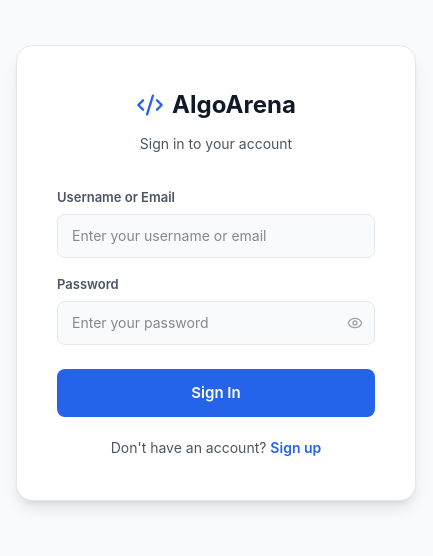
Test case: Login Page › Validation › should show error when only email is filled
In the field with placeholder "Enter your username or email": (216, 236) [57,214,375,258], type "user"
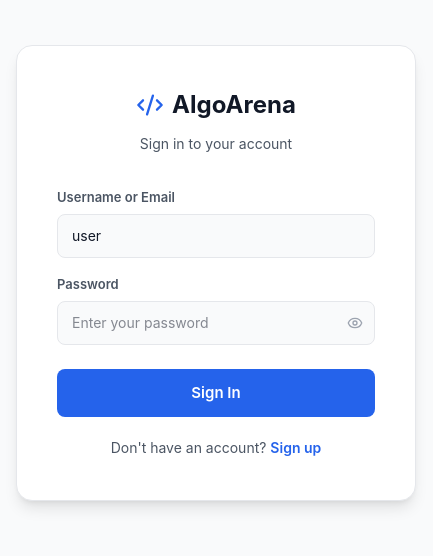
Click the button "Sign In": (216, 393) [57,369,375,417]
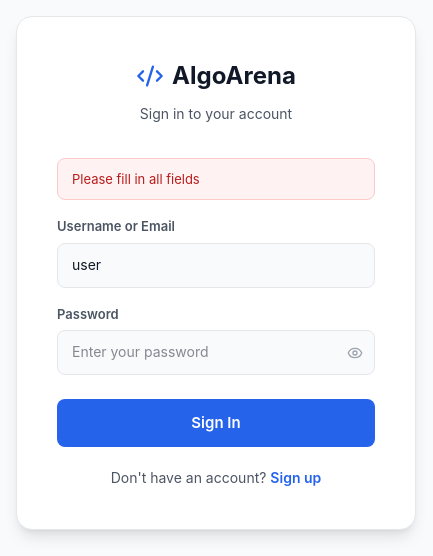
expect the text "Please fill in all fields" is shown: met, box [57,158,375,200]
